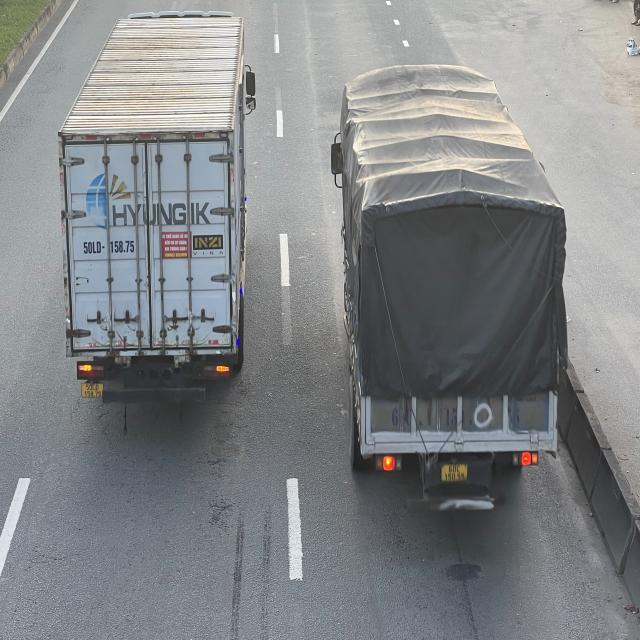container: (58, 9, 257, 400)
truck: (333, 64, 567, 491)
